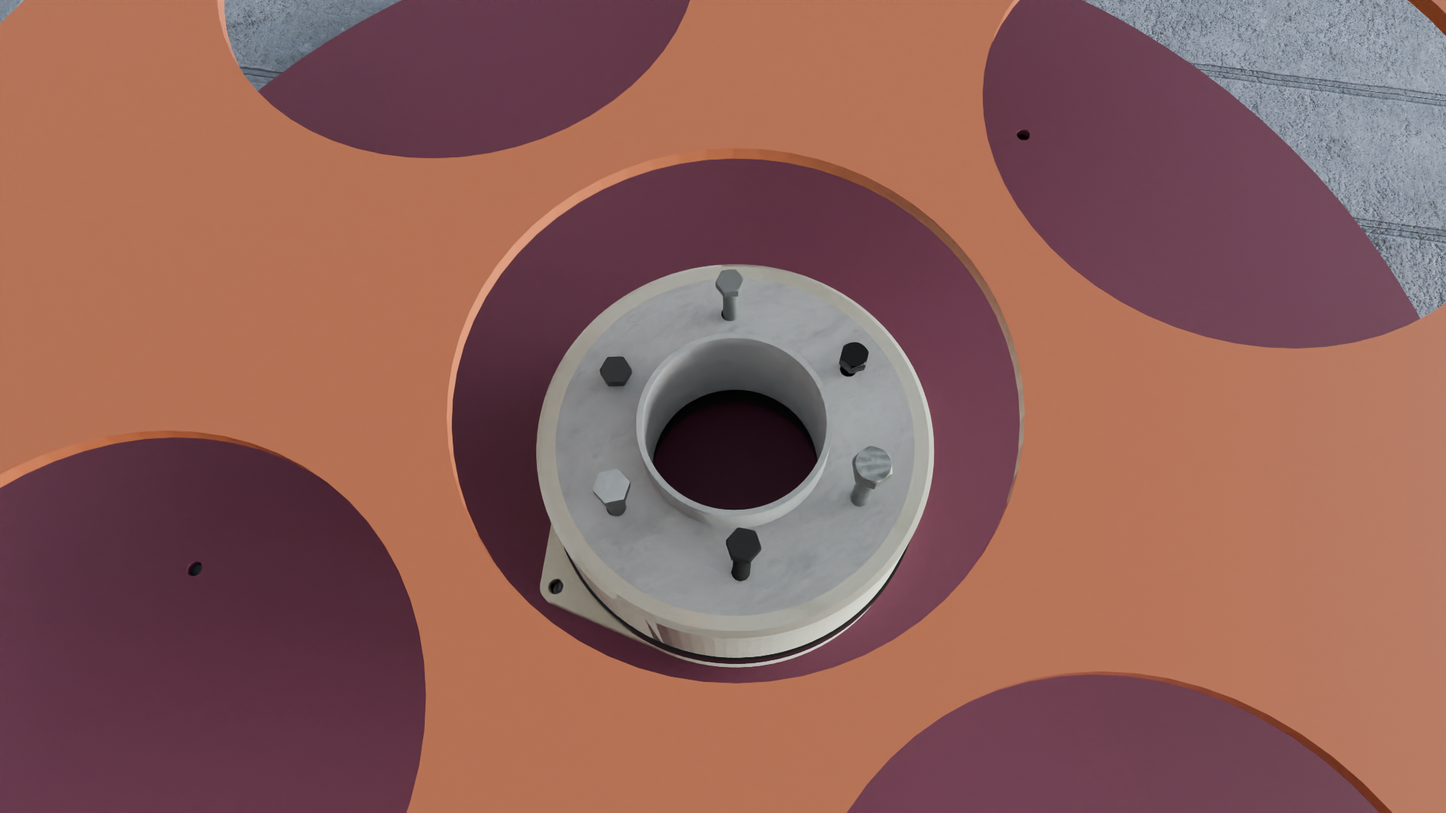bolt: (854, 446, 892, 485), (593, 469, 630, 504), (726, 528, 761, 561), (599, 356, 631, 382), (840, 342, 869, 369), (715, 269, 744, 293)
